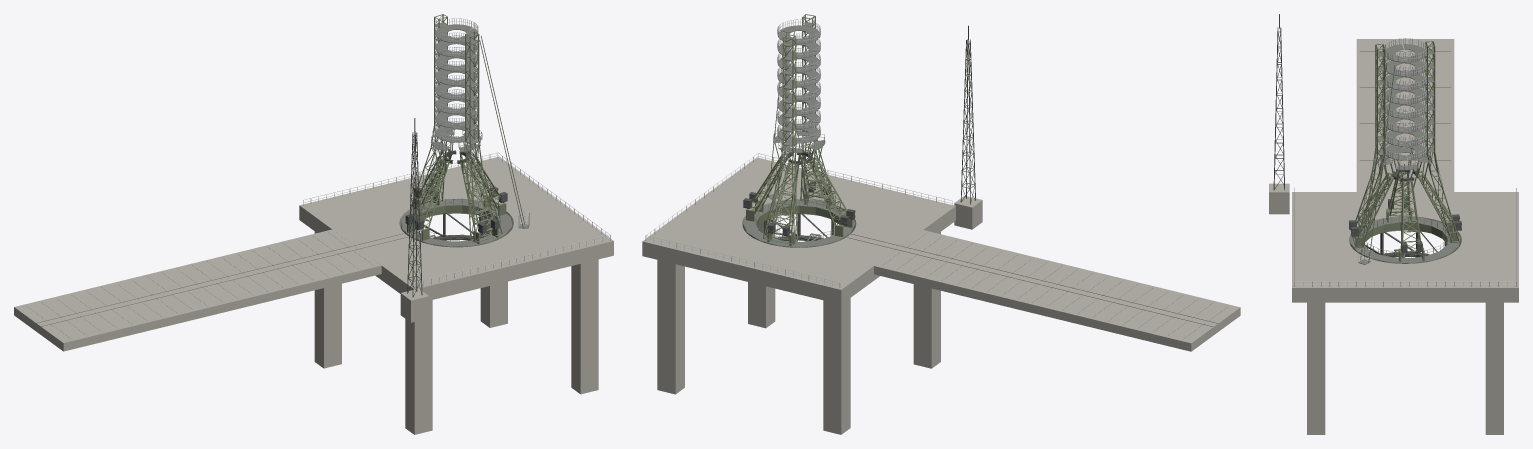
Rendered from pad.glb.
3 renders of one model, left to right at view 1: azimuth 30°, elevation 25°; view 2: azimuth 150°, elevation 25°; view 3: azimuth 270°, elevation 25°, orthographic.
Parts seen in each view (by area): view 1: Platform_Concrete, RailApproach_Concrete, SouthServiceTower_Frame_Green, SouthServiceTower_Frame_Deck, NorthServiceTower_Frame_Deck, LaunchRing_Deck, PadMast_Dark, Platform_Galv, SouthServiceTower_Frame_Galv, Support_2_Green, NorthServiceTower_Frame_Green, NorthServiceTower_Frame_Galv (+4 smaller); view 2: Platform_Concrete, RailApproach_Concrete, NorthServiceTower_Frame_Green, NorthServiceTower_Frame_Deck, LaunchRing_Deck, SouthServiceTower_Frame_Deck, PadMast_Dark, Platform_Galv, NorthServiceTower_Frame_Galv, SouthServiceTower_Frame_Green, Support_2_Green, RailApproach_Rail (+6 smaller); view 3: Platform_Concrete, RailApproach_Concrete, SouthServiceTower_Frame_Green, SouthServiceTower_Frame_Deck, NorthServiceTower_Frame_Deck, NorthServiceTower_Frame_Green, LaunchRing_Deck, NorthServiceTower_Frame_Galv, SouthServiceTower_Frame_Galv, PadMast_Dark, LaunchRing_Green, Support_4_Green (+7 smaller).
Boxes of the visible parts, x1,y1,x2,y2 form: Platform_Concrete: [299, 156, 613, 434]; RailApproach_Concrete: [14, 229, 381, 351]; SouthServiceTower_Frame_Green: [463, 31, 524, 242]; SouthServiceTower_Frame_Deck: [440, 28, 477, 144]; NorthServiceTower_Frame_Deck: [435, 22, 472, 138]; LaunchRing_Deck: [401, 198, 511, 246]; PadMast_Dark: [407, 118, 422, 297]; Platform_Galv: [303, 152, 610, 287]; SouthServiceTower_Frame_Galv: [440, 22, 478, 141]; Support_2_Green: [411, 146, 449, 229]; NorthServiceTower_Frame_Green: [411, 14, 447, 209]; NorthServiceTower_Frame_Galv: [435, 18, 473, 137]; Platform_Concrete: [642, 157, 955, 434]; RailApproach_Concrete: [874, 230, 1240, 351]; NorthServiceTower_Frame_Green: [763, 34, 797, 244]; NorthServiceTower_Frame_Deck: [777, 31, 818, 146]; LaunchRing_Deck: [743, 199, 854, 247]; SouthServiceTower_Frame_Deck: [779, 22, 820, 137]; PadMast_Dark: [960, 25, 975, 204]; Platform_Galv: [645, 153, 952, 287]; NorthServiceTower_Frame_Galv: [777, 26, 818, 142]; SouthServiceTower_Frame_Green: [768, 14, 834, 206]; Support_2_Green: [808, 147, 849, 226]; RailApproach_Rail: [847, 234, 1217, 326]; Platform_Concrete: [1292, 192, 1518, 434]; RailApproach_Concrete: [1356, 39, 1454, 191]; SouthServiceTower_Frame_Green: [1352, 44, 1395, 263]; SouthServiceTower_Frame_Deck: [1376, 44, 1407, 160]; NorthServiceTower_Frame_Deck: [1403, 44, 1433, 160]; NorthServiceTower_Frame_Green: [1424, 41, 1459, 242]; LaunchRing_Deck: [1351, 216, 1459, 263]; NorthServiceTower_Frame_Galv: [1403, 38, 1426, 159]; SouthServiceTower_Frame_Galv: [1384, 38, 1407, 159]; PadMast_Dark: [1273, 14, 1284, 190]; LaunchRing_Green: [1350, 222, 1460, 263]; Support_4_Green: [1397, 168, 1420, 252].
Size of the model in its own units: 103 by 66.58 by 43.6.
